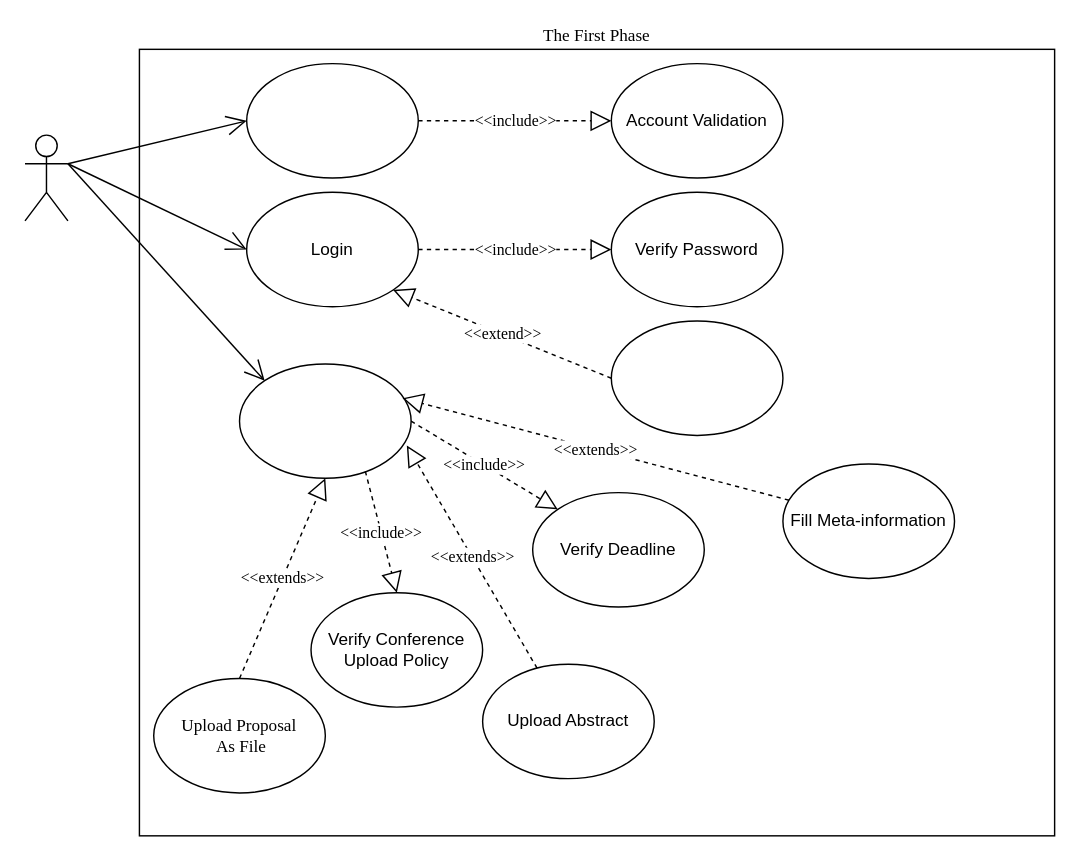
Image size: 1080x861. Some labels were removed from this diagram. Here are the shapes that lost their labels. From the top down, the centre of each, then its label:
(x=331, y=120): Create Account
(x=46, y=177): User
(x=696, y=377): Display Login Error
(x=324, y=420): Submit Proposal
